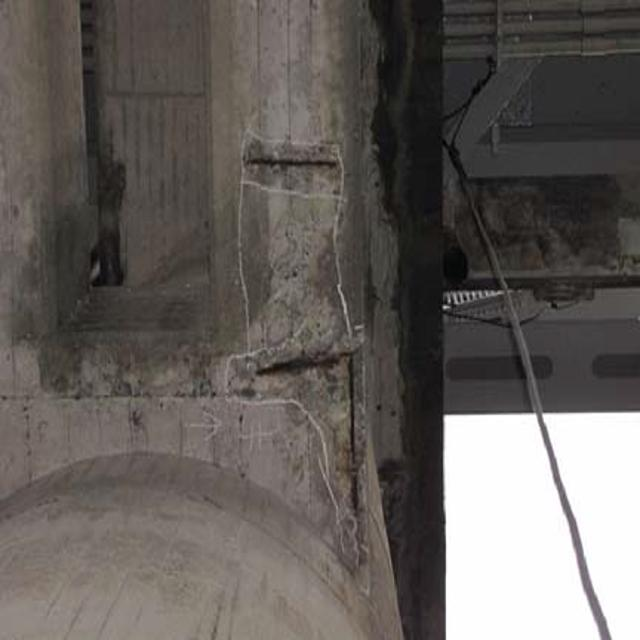spalling: (206, 317, 373, 422), (227, 123, 352, 207)
